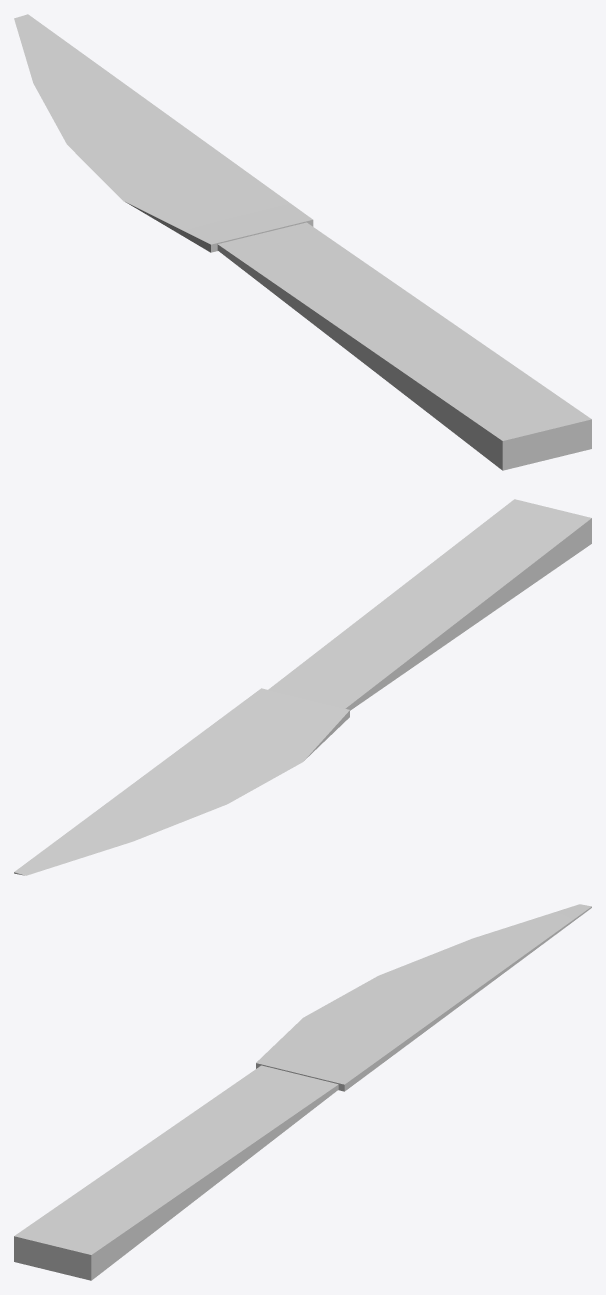
File: Itr_Obj_Knife_01.FBX
3 renders of one model, top to bottom at view 1: azimuth 30°, elevation 25°; view 2: azimuth 150°, elevation 25°; view 3: azimuth 330°, elevation 25°, orthographic. The views are drawn at different scales.
Visible parts, largest first — view 1: Itr_Obj_Knife_01; view 2: Itr_Obj_Knife_01; view 3: Itr_Obj_Knife_01.
Part boxes in pixels (x1,y1,x2,y2): Itr_Obj_Knife_01: (14,14,591,470); Itr_Obj_Knife_01: (14,499,591,875); Itr_Obj_Knife_01: (14,904,591,1280).
Size of the model in its own units: 0.5827 by 0.1387 by 4.84.
